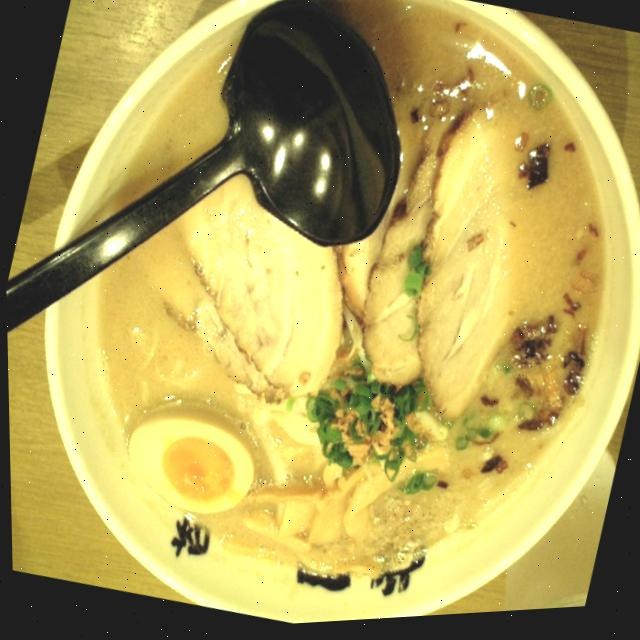面条主食: (21, 0, 640, 639)
